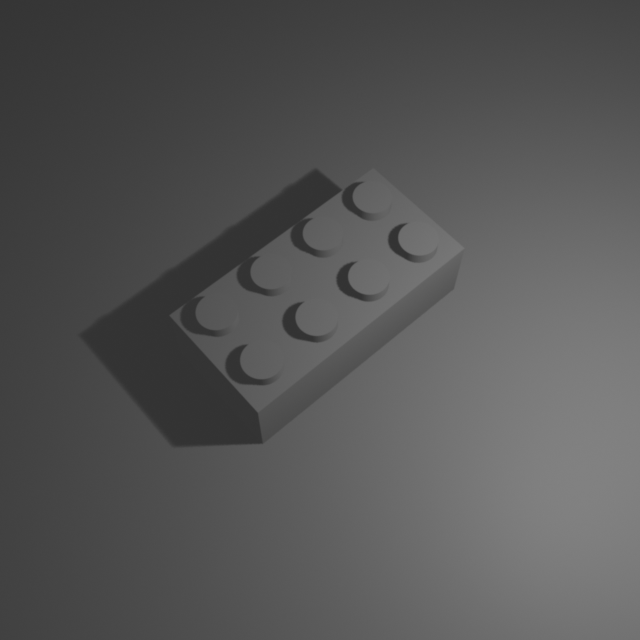lego_2x4: (167, 160, 467, 444)
